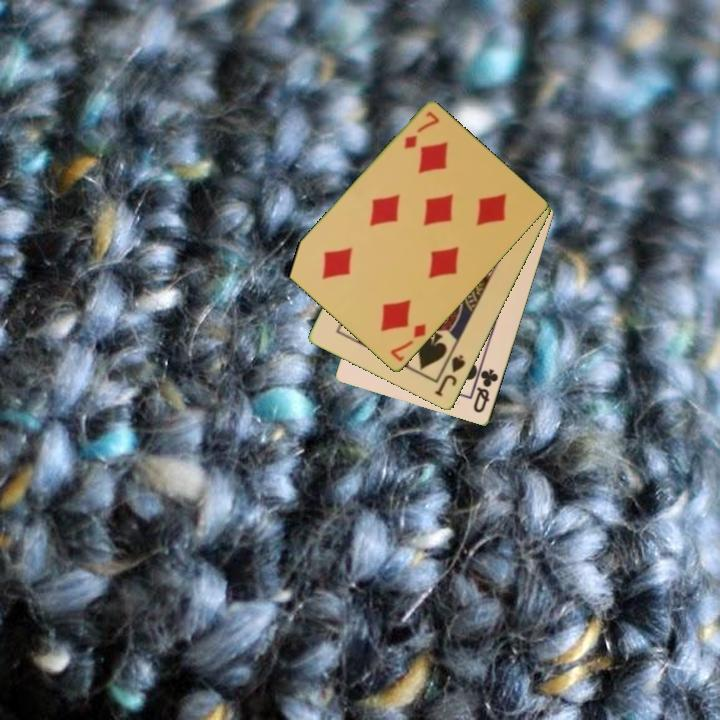7d: (387, 320, 429, 365), (400, 108, 442, 152)
Js: (431, 351, 468, 400)
Qc: (470, 366, 501, 416)
